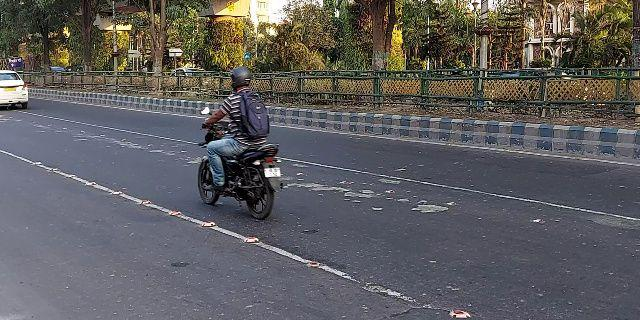Car: (1, 68, 32, 114)
Motorbike: (186, 67, 290, 225)
